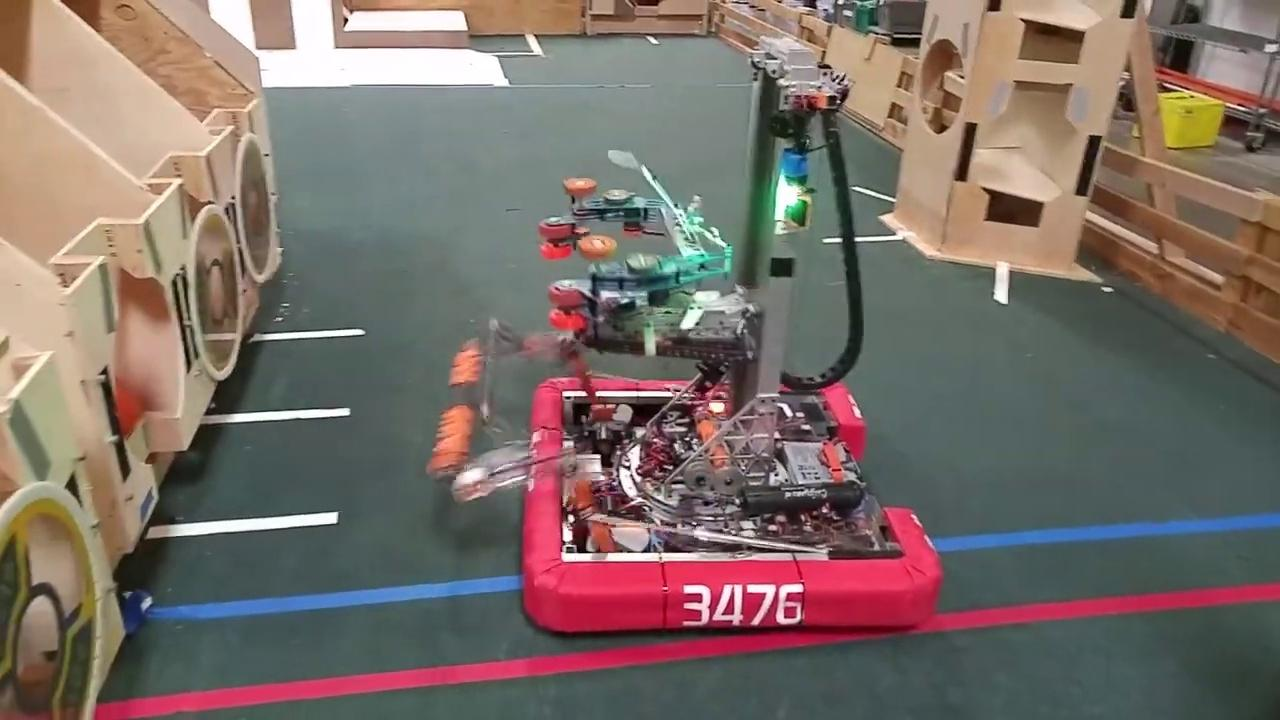robot: (431, 26, 953, 642)
